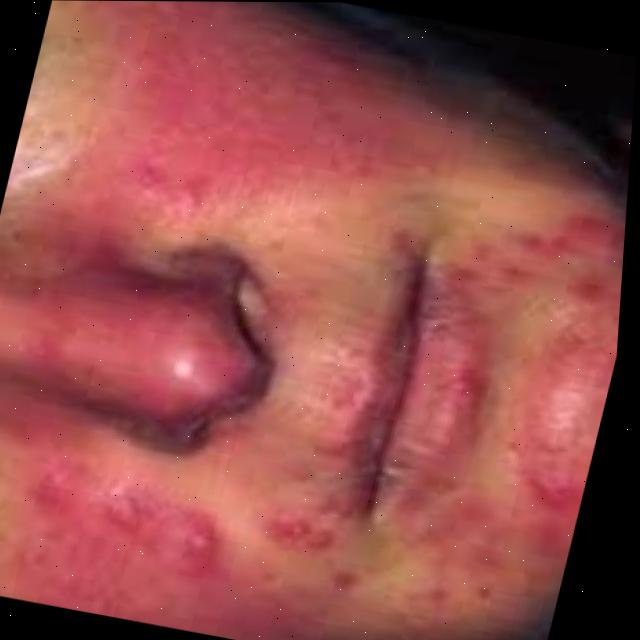Rosacea: (12, 0, 502, 323), (384, 166, 629, 623), (0, 404, 380, 640), (0, 235, 272, 449)
